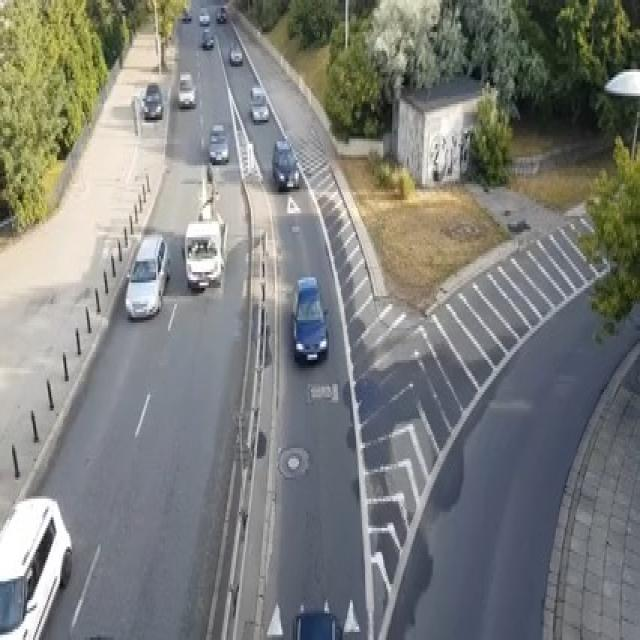car: (0, 493, 72, 638), (124, 232, 170, 320), (290, 274, 329, 362), (183, 218, 224, 290), (292, 608, 342, 637), (272, 139, 299, 189), (208, 122, 228, 162), (141, 83, 162, 120), (249, 85, 269, 123), (178, 72, 195, 107), (228, 37, 242, 64), (202, 27, 214, 48), (198, 8, 209, 24), (216, 6, 227, 22), (182, 8, 191, 21)
